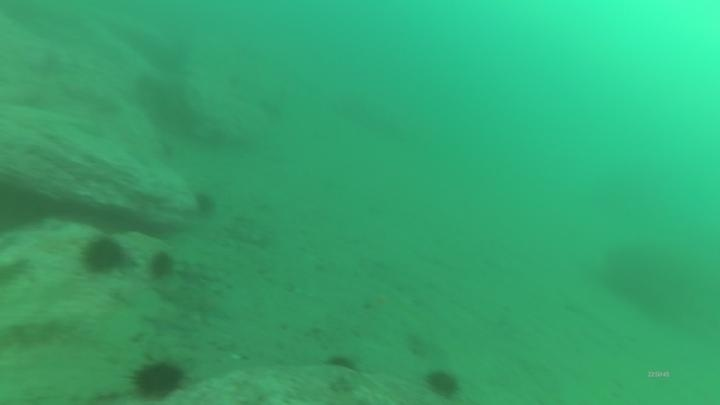echinus: (128, 357, 188, 401), (78, 233, 129, 277), (423, 366, 463, 400), (145, 248, 178, 283), (323, 350, 361, 376), (191, 189, 219, 219)
starfish: (141, 307, 191, 338)
